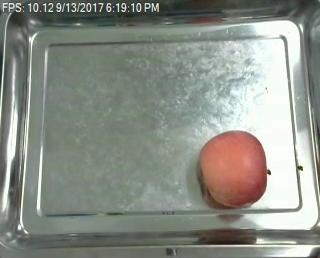apple: (196, 129, 274, 209)
